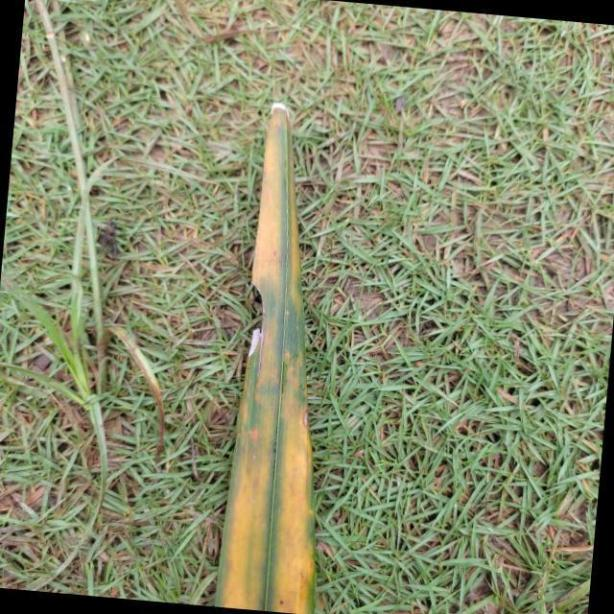Megnesium: (218, 96, 316, 614)
